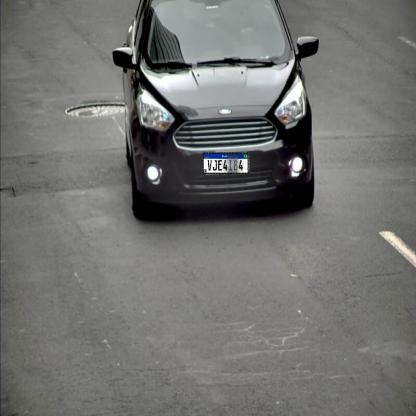PlacaM: (202, 153, 249, 174)
